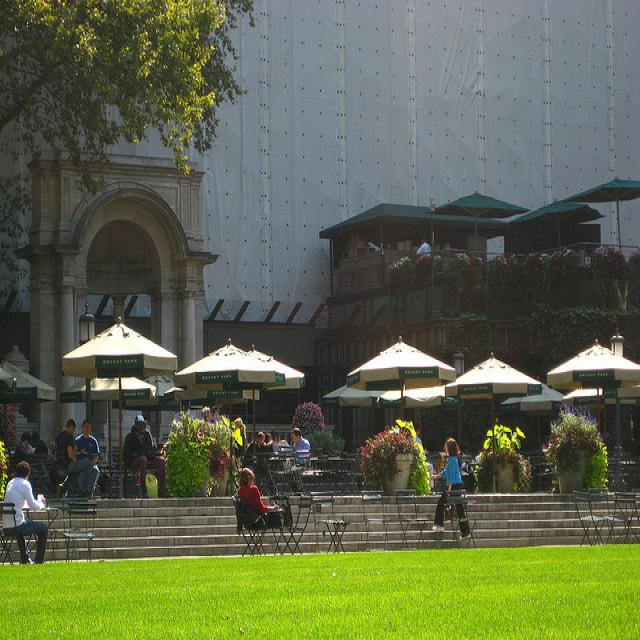chair: (233, 494, 279, 557), (1, 501, 45, 566), (46, 498, 88, 562), (272, 498, 312, 555), (312, 491, 347, 553), (395, 488, 429, 550), (63, 501, 97, 562), (445, 487, 478, 548), (573, 490, 608, 547), (360, 489, 391, 552), (602, 497, 629, 545)
dining table: (23, 508, 58, 554), (256, 449, 295, 456), (76, 451, 100, 457), (240, 453, 271, 457)
